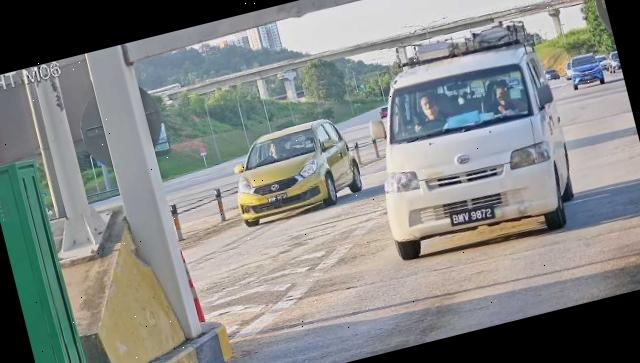License_Plate: (448, 201, 499, 231)
van: (350, 15, 587, 269)
